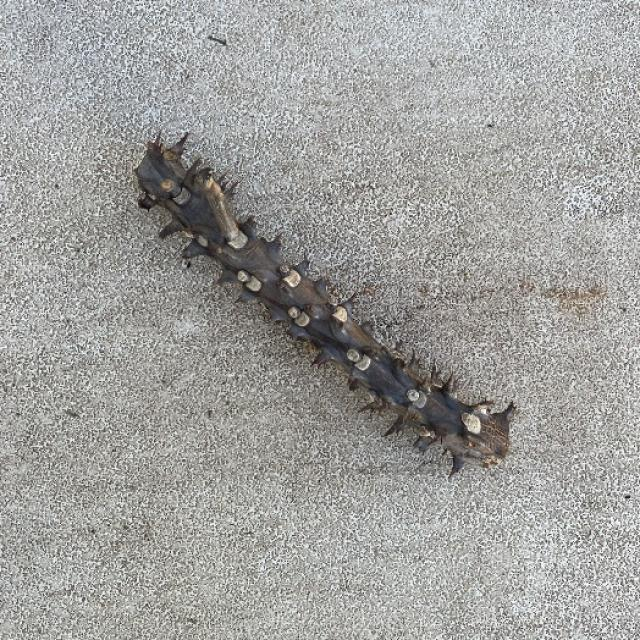organik: (138, 126, 508, 480)
